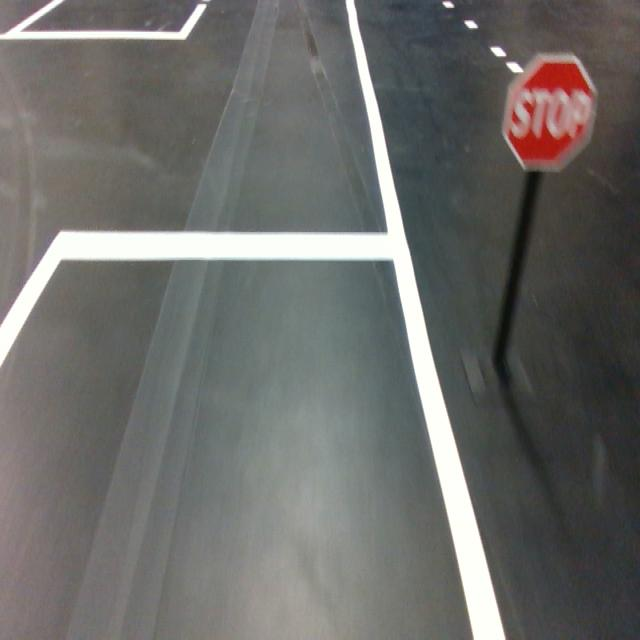stop-sign: (499, 52, 601, 174)
